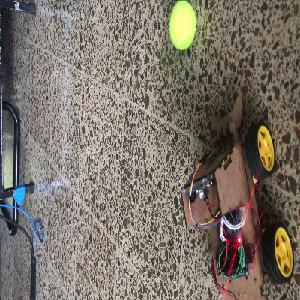Ball: (168, 0, 196, 51)
Robot: (180, 85, 293, 298)
